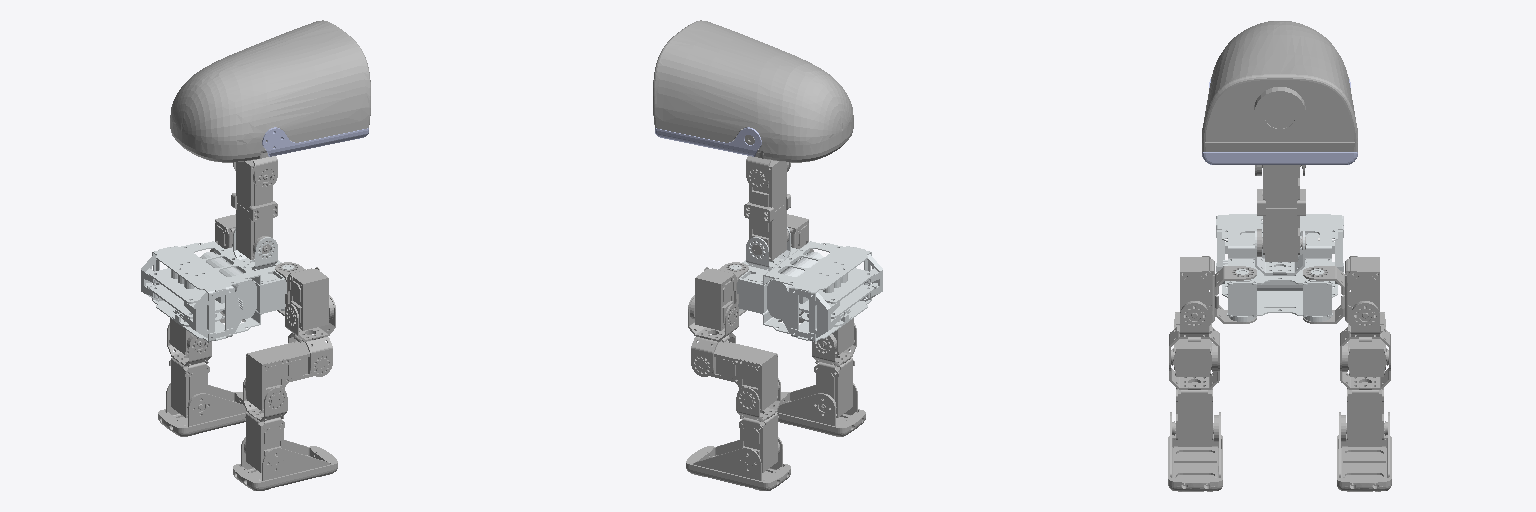
robot.urdf — jduck_description:
<?xml version="1.0" encoding="utf-8"?>
<!-- This URDF was automatically created by SolidWorks to URDF Exporter! Originally created by Stephen Brawner (brawner@gmail.com) 
     Commit Version: 1.6.0-4-g7f85cfe  Build Version: 1.6.7995.38578
     For more information, please see http://wiki.ros.org/sw_urdf_exporter -->
<robot
  name="jduck_description">
  <link
    name="base_link">
    <inertial>
      <origin
        xyz="-0.027527 5.0941E-05 0.014574"
        rpy="0 0 0" />
      <mass
        value="0.327" />
      <inertia
        ixx="0.000118101"
        ixy="8.88257e-08"
        ixz="1.69745e-06"
        iyy="0.000114064"
        iyz="-2.23639e-07"
        izz="0.000187543" />
    </inertial>
    <visual>
      <origin
        xyz="0 0 0"
        rpy="0 0 0" />
      <geometry>
        <mesh
          filename="package://jduck_description/meshes/base_link.STL" />
      </geometry>
      <material
        name="">
        <color
          rgba="0.89804 0.91765 0.92941 1" />
      </material>
    </visual>
    <collision>
      <origin
        xyz="0 0 0"
        rpy="0 0 0" />
      <geometry>
        <mesh
          filename="package://jduck_description/meshes/base_link.STL" />
      </geometry>
    </collision>
  </link>
  <link
    name="left_hip_yaw_link">
    <inertial>
      <origin
        xyz="0.00058876 0.030953 0.020112"
        rpy="0 0 0" />
      <mass
        value="0.065" />
      <inertia
        ixx="1.42222e-05"
        ixy="-3.60069e-12"
        ixz="3.93069e-07"
        iyy="1.59509e-05"
        iyz="2.14008e-12"
        izz="7.37962e-06" />
    </inertial>
    <visual>
      <origin
        xyz="0 0 0"
        rpy="0 0 0" />
      <geometry>
        <mesh
          filename="package://jduck_description/meshes/left_hip_yaw_link.STL" />
      </geometry>
      <material
        name="">
        <color
          rgba="0.75294 0.75294 0.75294 1" />
      </material>
    </visual>
    <collision>
      <origin
        xyz="0 0 0"
        rpy="0 0 0" />
      <geometry>
        <mesh
          filename="package://jduck_description/meshes/left_hip_yaw_link.STL" />
      </geometry>
    </collision>
  </link>
  <joint
    name="left_hip_yaw_joint"
    type="revolute">
    <origin
      xyz="0.012087 0.0284 -0.0049"
      rpy="0 0 0" />
    <parent
      link="base_link" />
    <child
      link="left_hip_yaw_link" />
    <axis
      xyz="0 0 1" />
    <limit
      lower="-2.4808"
      upper="0.4498"
      effort="0.8"
      velocity="3.0" />
  </joint>
  <link
    name="left_hip_roll_link">
    <inertial>
      <origin
        xyz="-0.01765 -4.1633E-17 -0.02145"
        rpy="0 0 0" />
      <mass
        value="0.015" />
      <inertia
        ixx="3.40181e-06"
        ixy="-3.71065e-18"
        ixz="-6.87427e-22"
        iyy="3.40181e-06"
        iyz="1.09e-22"
        izz="4.16485e-06" />
    </inertial>
    <visual>
      <origin
        xyz="0 0 0"
        rpy="0 0 0" />
      <geometry>
        <mesh
          filename="package://jduck_description/meshes/left_hip_roll_link.STL" />
      </geometry>
      <material
        name="">
        <color
          rgba="0.75294 0.75294 0.75294 1" />
      </material>
    </visual>
    <collision>
      <origin
        xyz="0 0 0"
        rpy="0 0 0" />
      <geometry>
        <mesh
          filename="package://jduck_description/meshes/left_hip_roll_link.STL" />
      </geometry>
    </collision>
  </link>
  <joint
    name="left_hip_roll_joint"
    type="revolute">
    <origin
      xyz="0.0188 0.03675 0.00955"
      rpy="0 0 0" />
    <parent
      link="left_hip_yaw_link" />
    <child
      link="left_hip_roll_link" />
    <axis
      xyz="-1 0 0" />
    <limit
      lower="-2.0452"
      upper="0.4805"
      effort="0.8"
      velocity="3.0" />
  </joint>
  <link
    name="left_hip_pitch_link">
    <inertial>
      <origin
        xyz="-0.02817 0.018033 -0.0057621"
        rpy="0 0 0" />
      <mass
        value="0.107" />
      <inertia
        ixx="1.83977e-05"
        ixy="4.19795e-07"
        ixz="-6.47828e-07"
        iyy="2.41754e-05"
        iyz="-4.19777e-07"
        izz="2.0198e-05" />
    </inertial>
    <visual>
      <origin
        xyz="0 0 0"
        rpy="0 0 0" />
      <geometry>
        <mesh
          filename="package://jduck_description/meshes/left_hip_pitch_link.STL" />
      </geometry>
      <material
        name="">
        <color
          rgba="0.75294 0.75294 0.75294 1" />
      </material>
    </visual>
    <collision>
      <origin
        xyz="0 0 0"
        rpy="0 0 0" />
      <geometry>
        <mesh
          filename="package://jduck_description/meshes/left_hip_pitch_link.STL" />
      </geometry>
    </collision>
  </link>
  <joint
    name="left_hip_pitch_joint"
    type="revolute">
    <origin
      xyz="-0.01765 -0.01765 -0.0429"
      rpy="0 0 0" />
    <parent
      link="left_hip_roll_link" />
    <child
      link="left_hip_pitch_link" />
    <axis
      xyz="0 1 0" />
    <limit
      lower="-3.7326"
      upper="0.4682"
      effort="0.8"
      velocity="3.0" />
  </joint>
  <link
    name="left_knee_link">
    <inertial>
      <origin
        xyz="3.1271E-09 0.016995 -0.040007"
        rpy="0 0 0" />
      <mass
        value="0.063" />
      <inertia
        ixx="1.50585e-05"
        ixy="3.59313e-12"
        ixz="2.17387e-12"
        iyy="1.12651e-05"
        iyz="-3.99275e-07"
        izz="9.10066e-06" />
    </inertial>
    <visual>
      <origin
        xyz="0 0 0"
        rpy="0 0 0" />
      <geometry>
        <mesh
          filename="package://jduck_description/meshes/left_knee_link.STL" />
      </geometry>
      <material
        name="">
        <color
          rgba="0.75294 0.75294 0.75294 1" />
      </material>
    </visual>
    <collision>
      <origin
        xyz="0 0 0"
        rpy="0 0 0" />
      <geometry>
        <mesh
          filename="package://jduck_description/meshes/left_knee_link.STL" />
      </geometry>
    </collision>
  </link>
  <joint
    name="left_knee_joint"
    type="revolute">
    <origin
      xyz="-0.0453 0 -0.02255"
      rpy="0 0 0" />
    <parent
      link="left_hip_pitch_link" />
    <child
      link="left_knee_link" />
    <axis
      xyz="0 1 0" />
    <limit
      lower="-1.5175"
      upper="2.1802"
      effort="0.8"
      velocity="3.0" />
  </joint>
  <link
    name="left_ankle_link">
    <inertial>
      <origin
        xyz="0.01843 0.0179 -0.016404"
        rpy="0 0 0" />
      <mass
        value="0.025" />
      <inertia
        ixx="7.27714e-06"
        ixy="5.45479e-10"
        ixz="7.3055e-07"
        iyy="1.8447e-05"
        iyz="-2.61421e-11"
        izz="2.29371e-05" />
    </inertial>
    <visual>
      <origin
        xyz="0 0 0"
        rpy="0 0 0" />
      <geometry>
        <mesh
          filename="package://jduck_description/meshes/left_ankle_link.STL" />
      </geometry>
      <material
        name="">
        <color
          rgba="0.75294 0.75294 0.75294 1" />
      </material>
    </visual>
    <collision>
      <origin
        xyz="0 0 0"
        rpy="0 0 0" />
      <geometry>
        <mesh
          filename="package://jduck_description/meshes/left_ankle_link.STL" />
      </geometry>
    </collision>
  </link>
  <joint
    name="left_ankle_joint"
    type="revolute">
    <origin
      xyz="0 -0.0012 -0.0592"
      rpy="0 0 0" />
    <parent
      link="left_knee_link" />
    <child
      link="left_ankle_link" />
    <axis
      xyz="0 1 0" />
    <limit
      lower="-1.4745"
      upper="1.8550"
      effort="0.8"
      velocity="3.0" />
  </joint>
  <link
    name="neck_pitch_link">
    <inertial>
      <origin
        xyz="7.2858E-17 0.01802 0.0342"
        rpy="0 0 0" />
      <mass
        value="0.107" />
      <inertia
        ixx="2.36314e-05"
        ixy="8.25118e-22"
        ixz="4.6498e-12"
        iyy="2.04964e-05"
        iyz="3.74367e-24"
        izz="1.15617e-05" />
    </inertial>
    <visual>
      <origin
        xyz="0 0 0"
        rpy="0 0 0" />
      <geometry>
        <mesh
          filename="package://jduck_description/meshes/neck_pitch_link.STL" />
      </geometry>
      <material
        name="">
        <color
          rgba="0.75294 0.75294 0.75294 1" />
      </material>
    </visual>
    <collision>
      <origin
        xyz="0 0 0"
        rpy="0 0 0" />
      <geometry>
        <mesh
          filename="package://jduck_description/meshes/neck_pitch_link.STL" />
      </geometry>
    </collision>
  </link>
  <joint
    name="neck_pitch_joint"
    type="revolute">
    <origin
      xyz="-0.0040629 -0.01765 0.04915"
      rpy="0 0 0" />
    <parent
      link="base_link" />
    <child
      link="neck_pitch_link" />
    <axis
      xyz="0 1 0" />
    <limit
      lower="-1.4991"
      upper="1.9715"
      effort="0.8"
      velocity="3.0" />
  </joint>
  <link
    name="head_pitch_link">
    <inertial>
      <origin
        xyz="1.6385E-06 0.024904 0.052212"
        rpy="0 0 0" />
      <mass
        value="0.08" />
      <inertia
        ixx="1.8872e-05"
        ixy="-3.16174e-09"
        ixz="8.69216e-10"
        iyy="1.01275e-05"
        iyz="1.24602e-07"
        izz="1.97051e-05" />
    </inertial>
    <visual>
      <origin
        xyz="0 0 0"
        rpy="0 0 0" />
      <geometry>
        <mesh
          filename="package://jduck_description/meshes/head_pitch_link.STL" />
      </geometry>
      <material
        name="">
        <color
          rgba="0.75294 0.75294 0.75294 1" />
      </material>
    </visual>
    <collision>
      <origin
        xyz="0 0 0"
        rpy="0 0 0" />
      <geometry>
        <mesh
          filename="package://jduck_description/meshes/head_pitch_link.STL" />
      </geometry>
    </collision>
  </link>
  <joint
    name="head_pitch_joint"
    type="revolute">
    <origin
      xyz="0 0 0.0684"
      rpy="0 0 0" />
    <parent
      link="neck_pitch_link" />
    <child
      link="head_pitch_link" />
    <axis
      xyz="0 1 0" />
    <limit
      lower="-1.9838"
      upper="2.0022"
      effort="0.8"
      velocity="3.0" />
  </joint>
  <link
    name="head_yaw_link">
    <inertial>
      <origin
        xyz="-0.030443 0.0078851 -0.012662"
        rpy="0 0 0" />
      <mass
        value="0.072" />
      <inertia
        ixx="1.5815e-05"
        ixy="1.05586e-06"
        ixz="-1.0895e-06"
        iyy="2.06788e-05"
        iyz="7.93144e-07"
        izz="2.81054e-05" />
    </inertial>
    <visual>
      <origin
        xyz="0 0 0"
        rpy="0 0 0" />
      <geometry>
        <mesh
          filename="package://jduck_description/meshes/head_yaw_link.STL" />
      </geometry>
      <material
        name="">
        <color
          rgba="0.75294 0.75294 0.75294 1" />
      </material>
    </visual>
    <collision>
      <origin
        xyz="0 0 0"
        rpy="0 0 0" />
      <geometry>
        <mesh
          filename="package://jduck_description/meshes/head_yaw_link.STL" />
      </geometry>
    </collision>
  </link>
  <joint
    name="head_yaw_joint"
    type="revolute">
    <origin
      xyz="0 0.01765 0.07505"
      rpy="0 0 0" />
    <parent
      link="head_pitch_link" />
    <child
      link="head_yaw_link" />
    <axis
      xyz="0 0 -1" />
    <limit
      lower="-0.8119"
      upper="0.6400"
      effort="0.8"
      velocity="3.0" />
  </joint>
  <link
    name="head_roll_link">
    <inertial>
      <origin
        xyz="0.075852 -0.0075149 0.0084797"
        rpy="0 0 0" />
      <mass
        value="0.205" />
      <inertia
        ixx="0.000241003"
        ixy="8.26416e-08"
        ixz="-2.80308e-05"
        iyy="0.000358662"
        iyz="-1.43024e-06"
        izz="0.000535956" />
    </inertial>
    <visual>
      <origin
        xyz="0 0 0"
        rpy="0 0 0" />
      <geometry>
        <mesh
          filename="package://jduck_description/meshes/head_roll_link.STL" />
      </geometry>
      <material
        name="">
        <color
          rgba="0.75294 0.75294 0.75294 1" />
      </material>
    </visual>
    <collision>
      <origin
        xyz="0 0 0"
        rpy="0 0 0" />
      <geometry>
        <mesh
          filename="package://jduck_description/meshes/head_roll_link.STL" />
      </geometry>
    </collision>
  </link>
  <joint
    name="head_roll_joint"
    type="revolute">
    <origin
      xyz="-0.064 0 -0.0187"
      rpy="0 0 0" />
    <parent
      link="head_yaw_link" />
    <child
      link="head_roll_link" />
    <axis
      xyz="1 0 0" />
    <limit
      lower="-0.2964"
      upper="0.2535"
      effort="0.8"
      velocity="3.0" />
  </joint>
  <link
    name="mouth_link">
    <inertial>
      <origin
        xyz="0.059311 0.051853 -0.014432"
        rpy="0 0 0" />
      <mass
        value="0.024" />
      <inertia
        ixx="3.23524e-05"
        ixy="1.45304e-06"
        ixz="1.6799e-06"
        iyy="1.53977e-05"
        iyz="-3.52913e-07"
        izz="4.65619e-05" />
    </inertial>
    <visual>
      <origin
        xyz="0 0 0"
        rpy="0 0 0" />
      <geometry>
        <mesh
          filename="package://jduck_description/meshes/mouth_link.STL" />
      </geometry>
      <material
        name="">
        <color
          rgba="0.79216 0.81961 0.93333 1" />
      </material>
    </visual>
    <collision>
      <origin
        xyz="0 0 0"
        rpy="0 0 0" />
      <geometry>
        <mesh
          filename="package://jduck_description/meshes/mouth_link.STL" />
      </geometry>
    </collision>
  </link>
  <joint
    name="mouth_joint"
    type="revolute">
    <origin
      xyz="0.052 -0.0508 -0.0039"
      rpy="0 0 0" />
    <parent
      link="head_roll_link" />
    <child
      link="mouth_link" />
    <axis
      xyz="0 1 0" />
    <limit
      lower="0"
      upper="0.4172"
      effort="0.8"
      velocity="3.0" />
  </joint>
  <link
    name="right_hip_yaw_link">
    <inertial>
      <origin
        xyz="0.00058876 -0.030953 0.020112"
        rpy="0 0 0" />
      <mass
        value="0.065" />
      <inertia
        ixx="1.42222e-05"
        ixy="-3.60069e-12"
        ixz="3.93069e-07"
        iyy="1.59509e-05"
        iyz="2.14008e-12"
        izz="7.37962e-06" />
    </inertial>
    <visual>
      <origin
        xyz="0 0 0"
        rpy="0 0 0" />
      <geometry>
        <mesh
          filename="package://jduck_description/meshes/right_hip_yaw_link.STL" />
      </geometry>
      <material
        name="">
        <color
          rgba="0.75294 0.75294 0.75294 1" />
      </material>
    </visual>
    <collision>
      <origin
        xyz="0 0 0"
        rpy="0 0 0" />
      <geometry>
        <mesh
          filename="package://jduck_description/meshes/right_hip_yaw_link.STL" />
      </geometry>
    </collision>
  </link>
  <joint
    name="right_hip_yaw_joint"
    type="revolute">
    <origin
      xyz="0.012087 -0.0284 -0.0049"
      rpy="0 0 0" />
    <parent
      link="base_link" />
    <child
      link="right_hip_yaw_link" />
    <axis
      xyz="0 0 1" />
    <limit
      lower="-0.4621"
      upper="2.4624"
      effort="0.8"
      velocity="3.0" />
  </joint>
  <link
    name="right_hip_roll_link">
    <inertial>
      <origin
        xyz="-0.01765 5.2597E-15 -0.02145"
        rpy="0 0 0" />
      <mass
        value="0.015" />
      <inertia
        ixx="3.40181e-06"
        ixy="-3.71131e-18"
        ixz="-1.704e-21"
        iyy="3.40181e-06"
        iyz="-7.46876e-22"
        izz="4.16485e-06" />
    </inertial>
    <visual>
      <origin
        xyz="0 0 0"
        rpy="0 0 0" />
      <geometry>
        <mesh
          filename="package://jduck_description/meshes/right_hip_roll_link.STL" />
      </geometry>
      <material
        name="">
        <color
          rgba="0.75294 0.75294 0.75294 1" />
      </material>
    </visual>
    <collision>
      <origin
        xyz="0 0 0"
        rpy="0 0 0" />
      <geometry>
        <mesh
          filename="package://jduck_description/meshes/right_hip_roll_link.STL" />
      </geometry>
    </collision>
  </link>
  <joint
    name="right_hip_roll_joint"
    type="revolute">
    <origin
      xyz="0.0188 -0.03675 0.00955"
      rpy="0 0 0" />
    <parent
      link="right_hip_yaw_link" />
    <child
      link="right_hip_roll_link" />
    <axis
      xyz="-1 0 0" />
    <limit
      lower="-0.4069"
      upper="2.1495"
      effort="0.8"
      velocity="3.0" />
  </joint>
  <link
    name="right_hip_pitch_link">
    <inertial>
      <origin
        xyz="-0.02817 -0.018033 -0.0057621"
        rpy="0 0 0" />
      <mass
        value="0.107" />
      <inertia
        ixx="1.83977e-05"
        ixy="-4.19777e-07"
        ixz="-6.47828e-07"
        iyy="2.41754e-05"
        iyz="4.19795e-07"
        izz="2.0198e-05" />
    </inertial>
    <visual>
      <origin
        xyz="0 0 0"
        rpy="0 0 0" />
      <geometry>
        <mesh
          filename="package://jduck_description/meshes/right_hip_pitch_link.STL" />
      </geometry>
      <material
        name="">
        <color
          rgba="0.75294 0.75294 0.75294 1" />
      </material>
    </visual>
    <collision>
      <origin
        xyz="0 0 0"
        rpy="0 0 0" />
      <geometry>
        <mesh
          filename="package://jduck_description/meshes/right_hip_pitch_link.STL" />
      </geometry>
    </collision>
  </link>
  <joint
    name="right_hip_pitch_joint"
    type="revolute">
    <origin
      xyz="-0.01765 0.01765 -0.0429"
      rpy="0 0 0" />
    <parent
      link="right_hip_roll_link" />
    <child
      link="right_hip_pitch_link" />
    <axis
      xyz="0 -1 0" />
    <limit
      lower="-0.4437"
      upper="3.7694"
      effort="0.8"
      velocity="3.0" />
  </joint>
  <link
    name="right_knee_link">
    <inertial>
      <origin
        xyz="-3.1271E-09 -0.016995 -0.040007"
        rpy="0 0 0" />
      <mass
        value="0.063" />
      <inertia
        ixx="1.5046e-05"
        ixy="3.59016e-12"
        ixz="-2.17206e-12"
        iyy="1.12557e-05"
        iyz="3.98944e-07"
        izz="9.09311e-06" />
    </inertial>
    <visual>
      <origin
        xyz="0 0 0"
        rpy="0 0 0" />
      <geometry>
        <mesh
          filename="package://jduck_description/meshes/right_knee_link.STL" />
      </geometry>
      <material
        name="">
        <color
          rgba="0.75294 0.75294 0.75294 1" />
      </material>
    </visual>
    <collision>
      <origin
        xyz="0 0 0"
        rpy="0 0 0" />
      <geometry>
        <mesh
          filename="package://jduck_description/meshes/right_knee_link.STL" />
      </geometry>
    </collision>
  </link>
  <joint
    name="right_knee_joint"
    type="revolute">
    <origin
      xyz="-0.0453 0 -0.02255"
      rpy="0 0 0" />
    <parent
      link="right_hip_pitch_link" />
    <child
      link="right_knee_link" />
    <axis
      xyz="0 -1 0" />
    <limit
      lower="-2.1495"
      upper="1.5298"
      effort="0.8"
      velocity="3.0" />
  </joint>
  <link
    name="right_ankle_link">
    <inertial>
      <origin
        xyz="0.01843 -0.0179 -0.016404"
        rpy="0 0 0" />
      <mass
        value="0.025" />
      <inertia
        ixx="7.27714e-06"
        ixy="5.45479e-10"
        ixz="7.3055e-07"
        iyy="1.8447e-05"
        iyz="-2.61421e-11"
        izz="2.29371e-05" />
    </inertial>
    <visual>
      <origin
        xyz="0 0 0"
        rpy="0 0 0" />
      <geometry>
        <mesh
          filename="package://jduck_description/meshes/right_ankle_link.STL" />
      </geometry>
      <material
        name="">
        <color
          rgba="0.75294 0.75294 0.75294 1" />
      </material>
    </visual>
    <collision>
      <origin
        xyz="0 0 0"
        rpy="0 0 0" />
      <geometry>
        <mesh
          filename="package://jduck_description/meshes/right_ankle_link.STL" />
      </geometry>
    </collision>
  </link>
  <joint
    name="right_ankle_joint"
    type="revolute">
    <origin
      xyz="0 0.0012 -0.0592"
      rpy="0 0 0" />
    <parent
      link="right_knee_link" />
    <child
      link="right_ankle_link" />
    <axis
      xyz="0 -1 0" />
    <limit
      lower="-1.8304"
      upper="1.5236"
      effort="0.8"
      velocity="3.0" />
  </joint>
  <link
    name="IMU_link">
    <inertial>
      <origin
        xyz="0 0 0"
        rpy="0 0 0" />
      <mass
        value="0.001" />
      <inertia
        ixx="0"
        ixy="0"
        ixz="0"
        iyy="0"
        iyz="0"
        izz="0" />
    </inertial>
    <visual>
      <origin
        xyz="0 0 0"
        rpy="0 0 0" />
      <geometry>
        <mesh
          filename="package://jduck_description/meshes/IMU_link.STL" />
      </geometry>
      <material
        name="">
        <color
          rgba="1 1 1 1" />
      </material>
    </visual>
    <collision>
      <origin
        xyz="0 0 0"
        rpy="0 0 0" />
      <geometry>
        <mesh
          filename="package://jduck_description/meshes/IMU_link.STL" />
      </geometry>
    </collision>
  </link>
  <joint
    name="IMU_joint"
    type="fixed">
    <origin
      xyz="-0.061163 0.0304 0.0261"
      rpy="0 0 0" />
    <parent
      link="base_link" />
    <child
      link="IMU_link" />
    <axis
      xyz="0 0 0" />
  </joint>
</robot>

--- What the picture shows (computed from the rendered views, not written in the file) ---
3 views of the same robot in one strip: view 1: azimuth 30°, elevation 25°; view 2: azimuth 150°, elevation 25°; view 3: azimuth 270°, elevation 25° (orthographic).
Model jduck_description with 17 links and 16 joints (15 revolute, 1 fixed), rooted at base_link, posed all joints at 0.
Visible links, largest first — view 1: head_roll_link, base_link, right_ankle_link, right_hip_pitch_link, neck_pitch_link, left_ankle_link, right_hip_yaw_link, right_knee_link, left_knee_link, right_hip_roll_link, mouth_link, left_hip_pitch_link (+2 smaller); view 2: head_roll_link, base_link, neck_pitch_link, left_ankle_link, left_hip_pitch_link, right_ankle_link, left_hip_yaw_link, left_knee_link, right_knee_link, left_hip_roll_link, mouth_link, right_hip_pitch_link (+2 smaller); view 3: head_roll_link, base_link, neck_pitch_link, left_knee_link, right_knee_link, left_hip_yaw_link, right_hip_yaw_link, left_ankle_link, right_ankle_link, mouth_link, left_hip_pitch_link, right_hip_pitch_link (+2 smaller).
Link boxes in pixels (bbox=[...]): head_roll_link: bbox=[170, 20, 370, 162]; base_link: bbox=[141, 228, 293, 341]; right_ankle_link: bbox=[233, 437, 337, 490]; right_hip_pitch_link: bbox=[244, 340, 328, 411]; neck_pitch_link: bbox=[231, 160, 277, 259]; left_ankle_link: bbox=[158, 383, 249, 436]; right_hip_yaw_link: bbox=[275, 262, 333, 330]; right_knee_link: bbox=[243, 378, 287, 472]; left_knee_link: bbox=[167, 323, 211, 417]; right_hip_roll_link: bbox=[285, 295, 335, 376]; mouth_link: bbox=[262, 127, 368, 156]; left_hip_pitch_link: bbox=[169, 311, 224, 354]; head_roll_link: bbox=[653, 20, 853, 162]; base_link: bbox=[730, 227, 882, 341]; neck_pitch_link: bbox=[744, 160, 790, 260]; left_ankle_link: bbox=[686, 437, 790, 490]; left_hip_pitch_link: bbox=[695, 340, 779, 411]; right_ankle_link: bbox=[774, 383, 865, 436]; left_hip_yaw_link: bbox=[690, 262, 748, 330]; left_knee_link: bbox=[736, 378, 780, 472]; right_knee_link: bbox=[812, 323, 856, 417]; left_hip_roll_link: bbox=[688, 295, 738, 376]; mouth_link: bbox=[655, 127, 761, 156]; right_hip_pitch_link: bbox=[799, 311, 854, 354]; head_roll_link: bbox=[1202, 21, 1357, 151]; base_link: bbox=[1216, 214, 1343, 321]; neck_pitch_link: bbox=[1257, 165, 1305, 261]; left_knee_link: bbox=[1340, 368, 1390, 446]; right_knee_link: bbox=[1169, 368, 1219, 446]; left_hip_yaw_link: bbox=[1303, 256, 1379, 325]; right_hip_yaw_link: bbox=[1180, 256, 1256, 325]; left_ankle_link: bbox=[1337, 412, 1391, 491]; right_ankle_link: bbox=[1168, 412, 1222, 491]; mouth_link: bbox=[1202, 79, 1357, 164]; left_hip_pitch_link: bbox=[1342, 312, 1388, 376]; right_hip_pitch_link: bbox=[1171, 312, 1217, 376].
Bounding box of the posed robot: 0.1741 × 0.1706 × 0.3769 m (x, y, z).
17 mesh visuals loaded from 17 distinct referenced files (17 binary STL).
